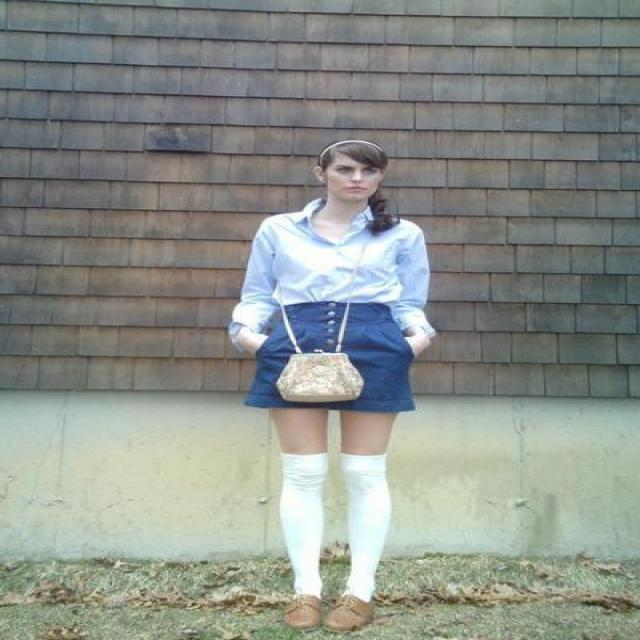bag: (276, 346, 362, 421)
shirt: (228, 199, 434, 352)
shoe: (326, 606, 368, 639)
shorts: (245, 301, 416, 414)
